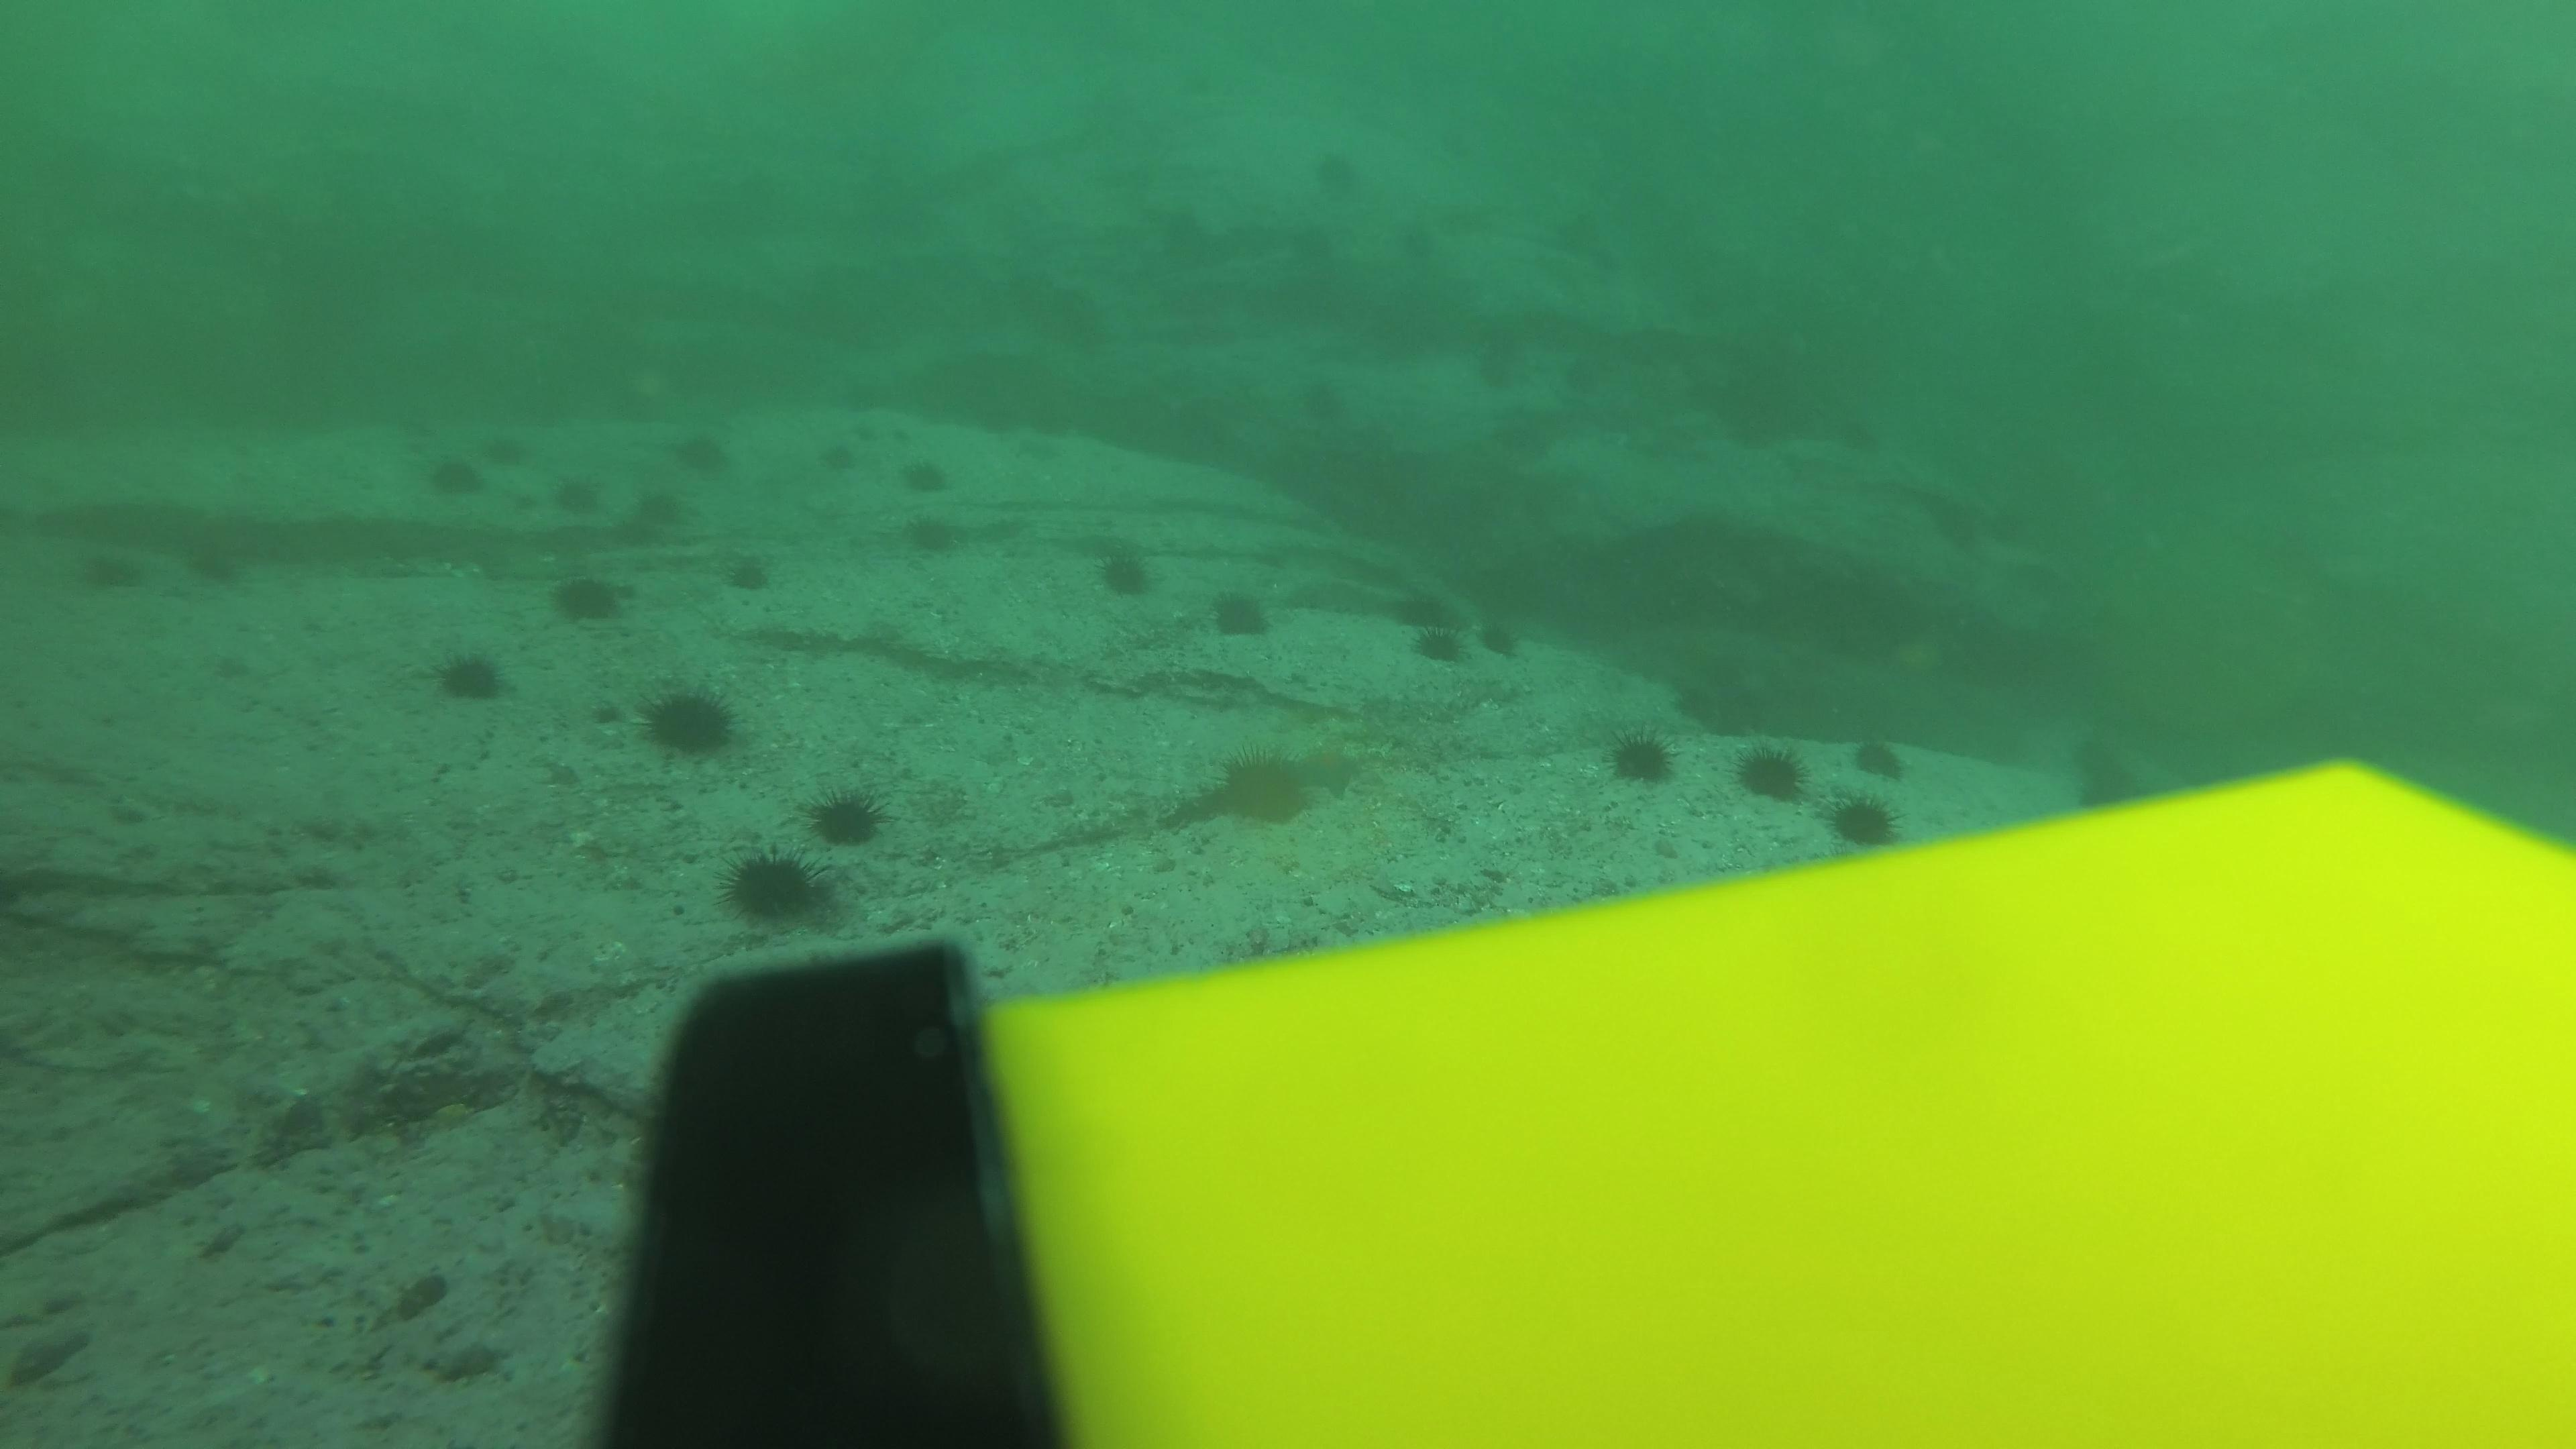echinus: (1191, 743, 1325, 835), (717, 844, 837, 934), (637, 678, 743, 764), (805, 780, 888, 851), (1730, 738, 1812, 809), (428, 640, 511, 709), (1599, 722, 1681, 791), (547, 564, 632, 630), (1822, 789, 1907, 855), (1086, 536, 1161, 605), (1203, 580, 1279, 646), (419, 446, 488, 504), (897, 506, 968, 563), (1405, 616, 1476, 669), (1845, 731, 1911, 784), (1293, 375, 1357, 425), (1468, 347, 1532, 396), (1548, 356, 1610, 405), (1311, 152, 1375, 200), (895, 451, 957, 499), (90, 547, 150, 594), (196, 545, 258, 591), (722, 547, 777, 598), (1297, 219, 1352, 267), (674, 435, 731, 476), (1477, 619, 1536, 658), (483, 432, 538, 472), (557, 478, 612, 518), (637, 490, 692, 531), (1401, 221, 1447, 262), (1431, 124, 1477, 165), (810, 441, 855, 478), (844, 414, 888, 451), (886, 425, 916, 449)
starfish: (1290, 740, 1369, 803)
